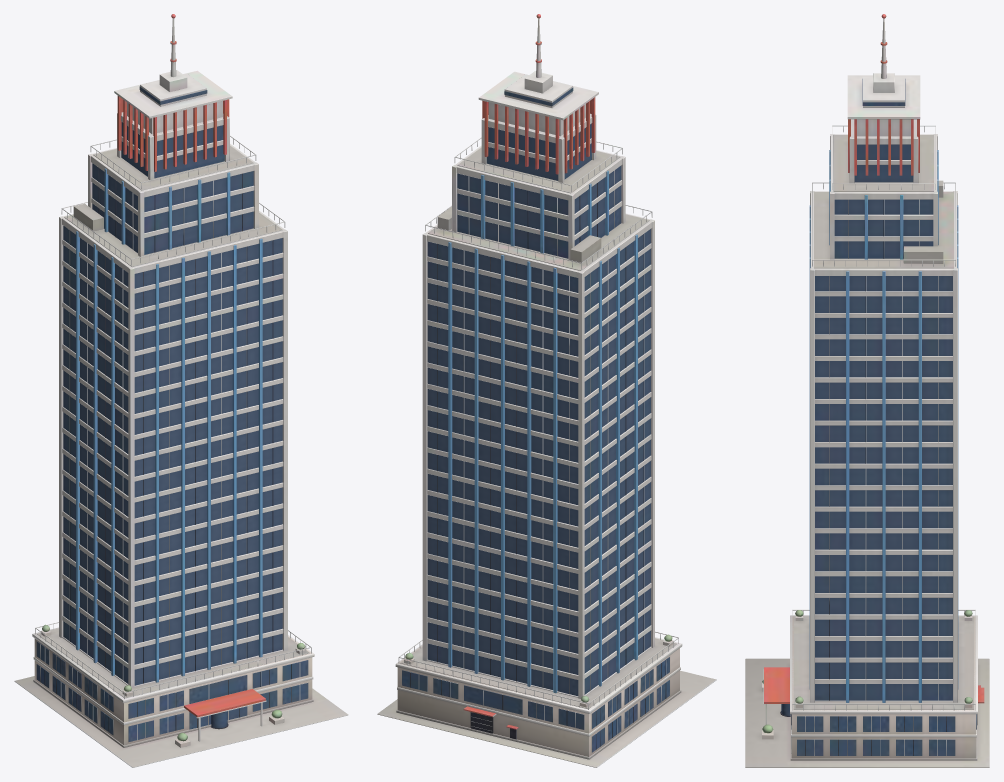
The model's file is bld-skyscraper.glb.
3 renders of one model, left to right at view 1: azimuth 30°, elevation 25°; view 2: azimuth 150°, elevation 25°; view 3: azimuth 270°, elevation 25°, orthographic. The views are drawn at different scales.
Parts seen in each view (by area): view 1: skyscraper_body; view 2: skyscraper_body; view 3: skyscraper_body.
Boxes of the visible parts, x1,y1,x2,y2 form: skyscraper_body: (14, 14, 348, 767); skyscraper_body: (377, 14, 716, 767); skyscraper_body: (745, 14, 989, 767).
Bounding box in the file's own units: 39 × 117 × 37.01.
1 material, 1 textured.
